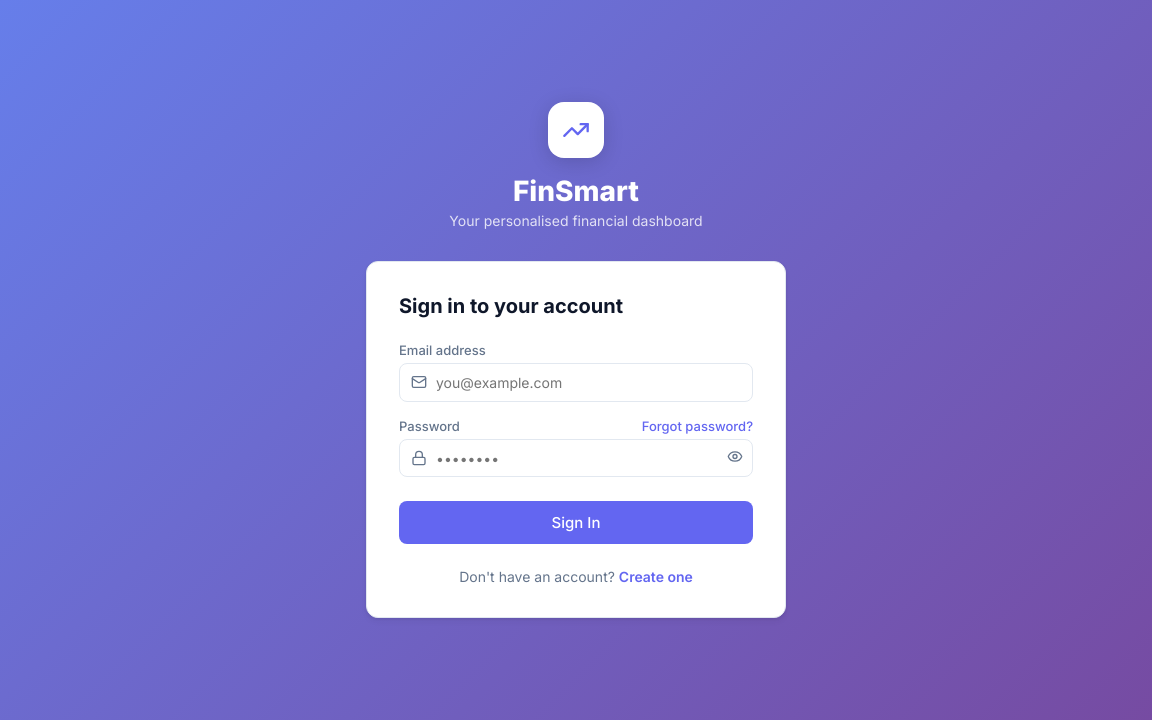
Login form › shows submit button loading state while login is pending
Type "user@example.com" into the field with placeholder "you@example.com". click: coordinates (576, 382)
box: [399,363,753,402]
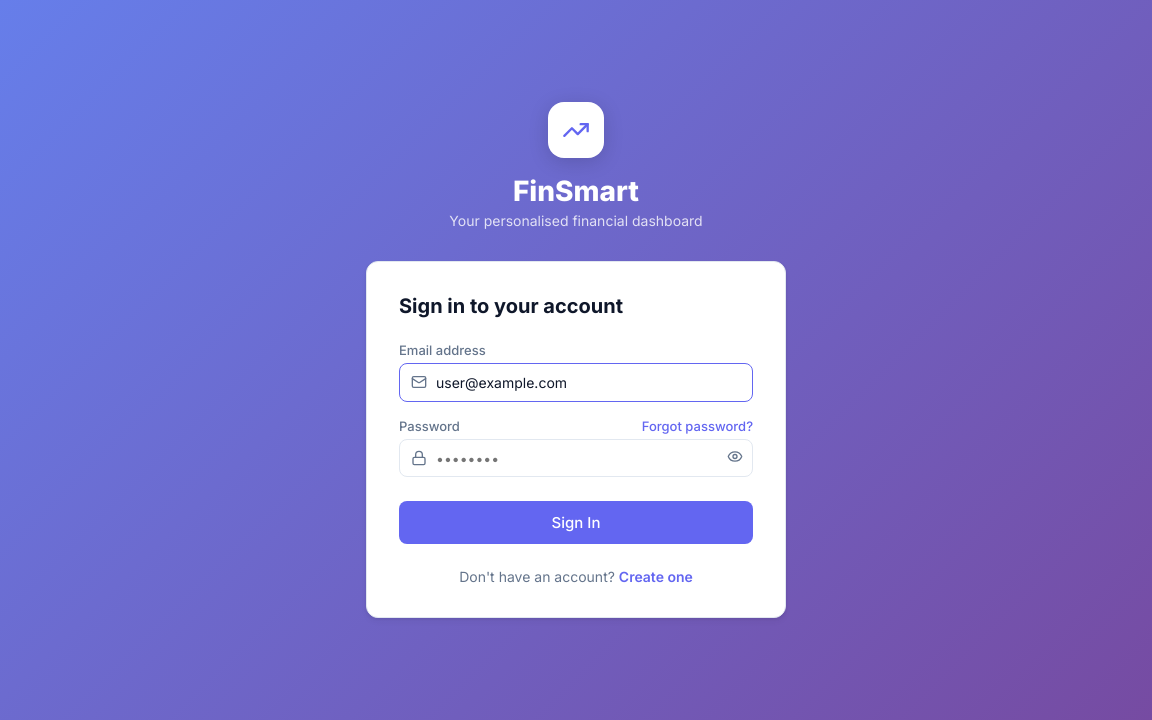
Type "password123" into the password field with placeholder "••••••••". click: coordinates (576, 458)
box: [399,439,753,477]
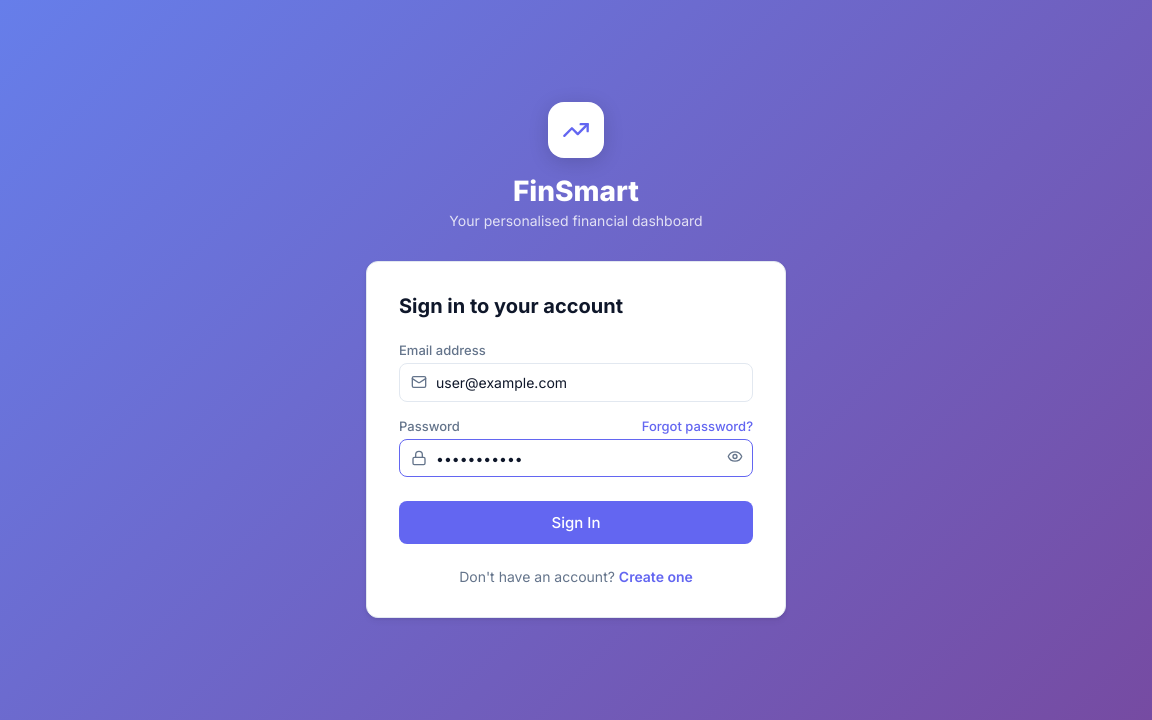
Click the button "Sign In". click: coordinates (576, 523)
box: [399,501,753,544]
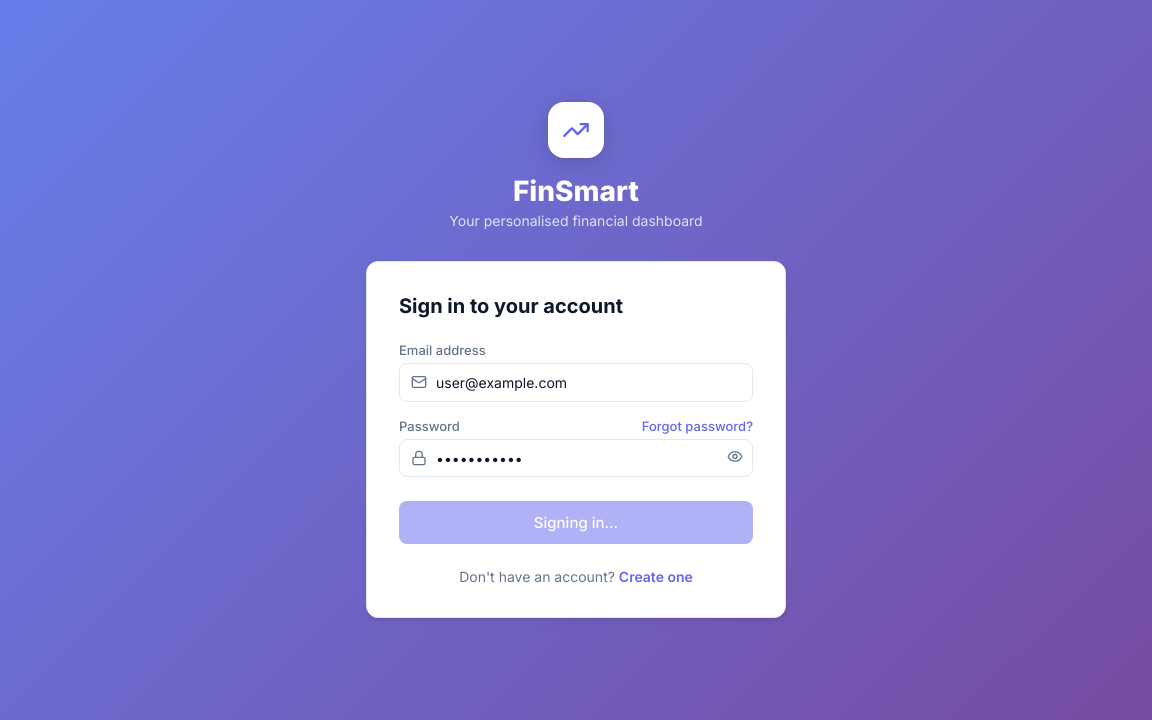
Expected: the button "Signing in..." is disabled, [399,501,753,544]
